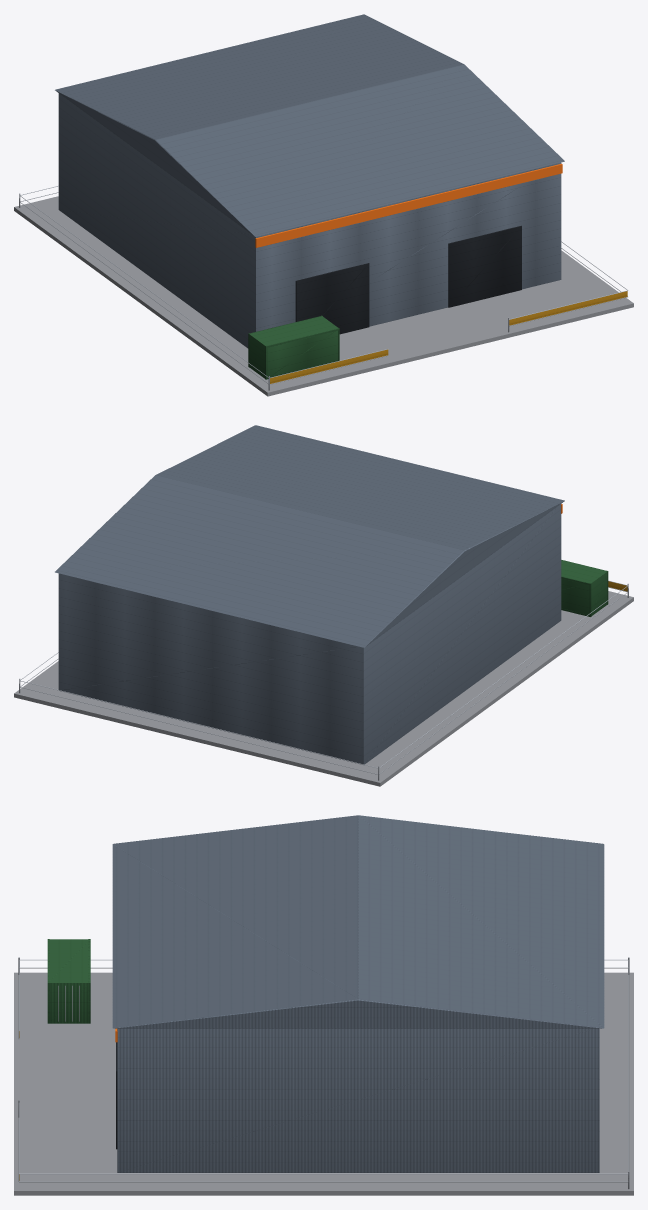
Rendered from galpao_2.glb.
The picture shows the model from 3 angles, top to bottom: view 1: azimuth 30°, elevation 25°; view 2: azimuth 150°, elevation 25°; view 3: azimuth 270°, elevation 25°; orthographic projection. The views are drawn at different scales.
Parts seen in each view (by area): view 1: galpao_2, galpao_2_liso; view 2: galpao_2, galpao_2_liso; view 3: galpao_2, galpao_2_liso.
Part boxes in pixels (left/top/right/bottom): galpao_2: left=19, top=14, right=627, bottom=390; galpao_2_liso: left=14, top=163, right=633, bottom=396; galpao_2: left=19, top=425, right=628, bottom=780; galpao_2_liso: left=14, top=504, right=633, bottom=786; galpao_2: left=18, top=815, right=629, bottom=1189; galpao_2_liso: left=14, top=959, right=633, bottom=1195.
Size of the model in its own units: 30 by 11.49 by 36.
Materials: 4 (3 with a texture image).
